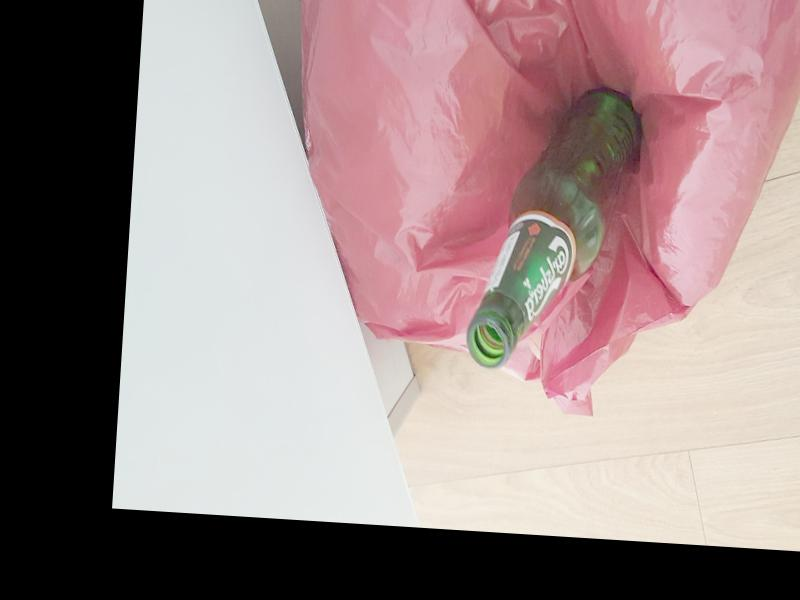Beer: (466, 85, 646, 379)
